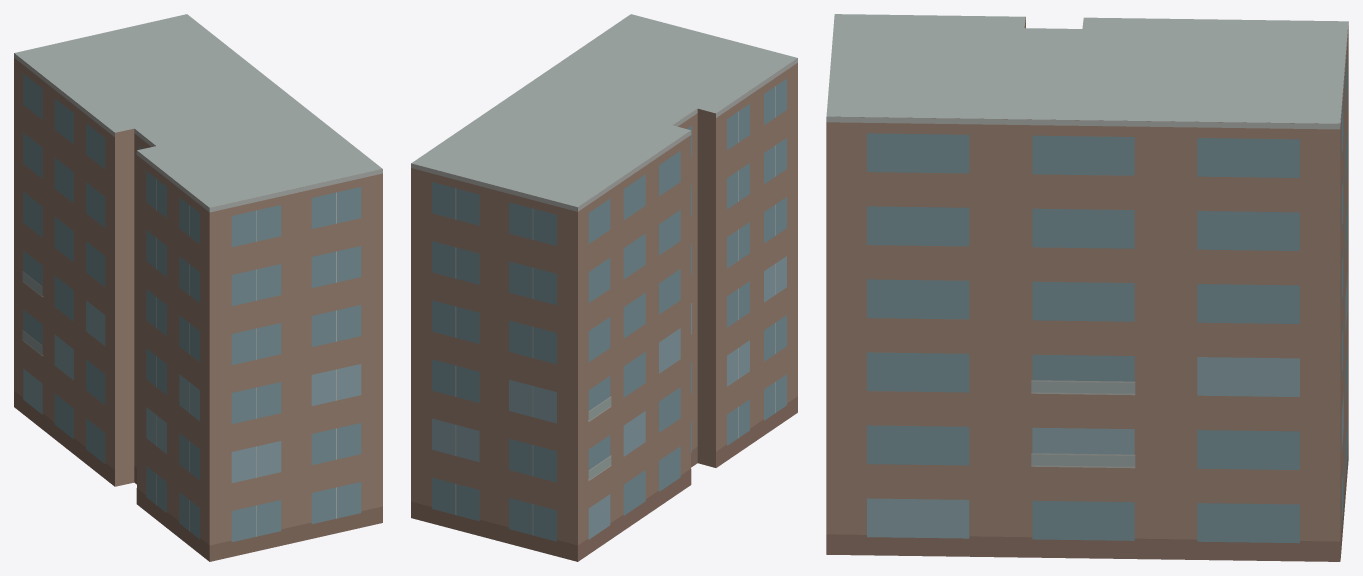
The model's file is survey-upis-32565429.glb.
3 renders of one model, left to right at view 1: azimuth 30°, elevation 25°; view 2: azimuth 150°, elevation 25°; view 3: azimuth 270°, elevation 25°, orthographic. The views are drawn at different scales.
Visible parts, largest first — view 1: survey-upis-32565429.tmp; view 2: survey-upis-32565429.tmp; view 3: survey-upis-32565429.tmp.
Boxes of the visible parts, bbox=[...] form: survey-upis-32565429.tmp: bbox=[14, 14, 382, 561]; survey-upis-32565429.tmp: bbox=[411, 14, 797, 561]; survey-upis-32565429.tmp: bbox=[826, 14, 1348, 561].
Size of the model in its own units: 10.06 by 18.7 by 20.2.
